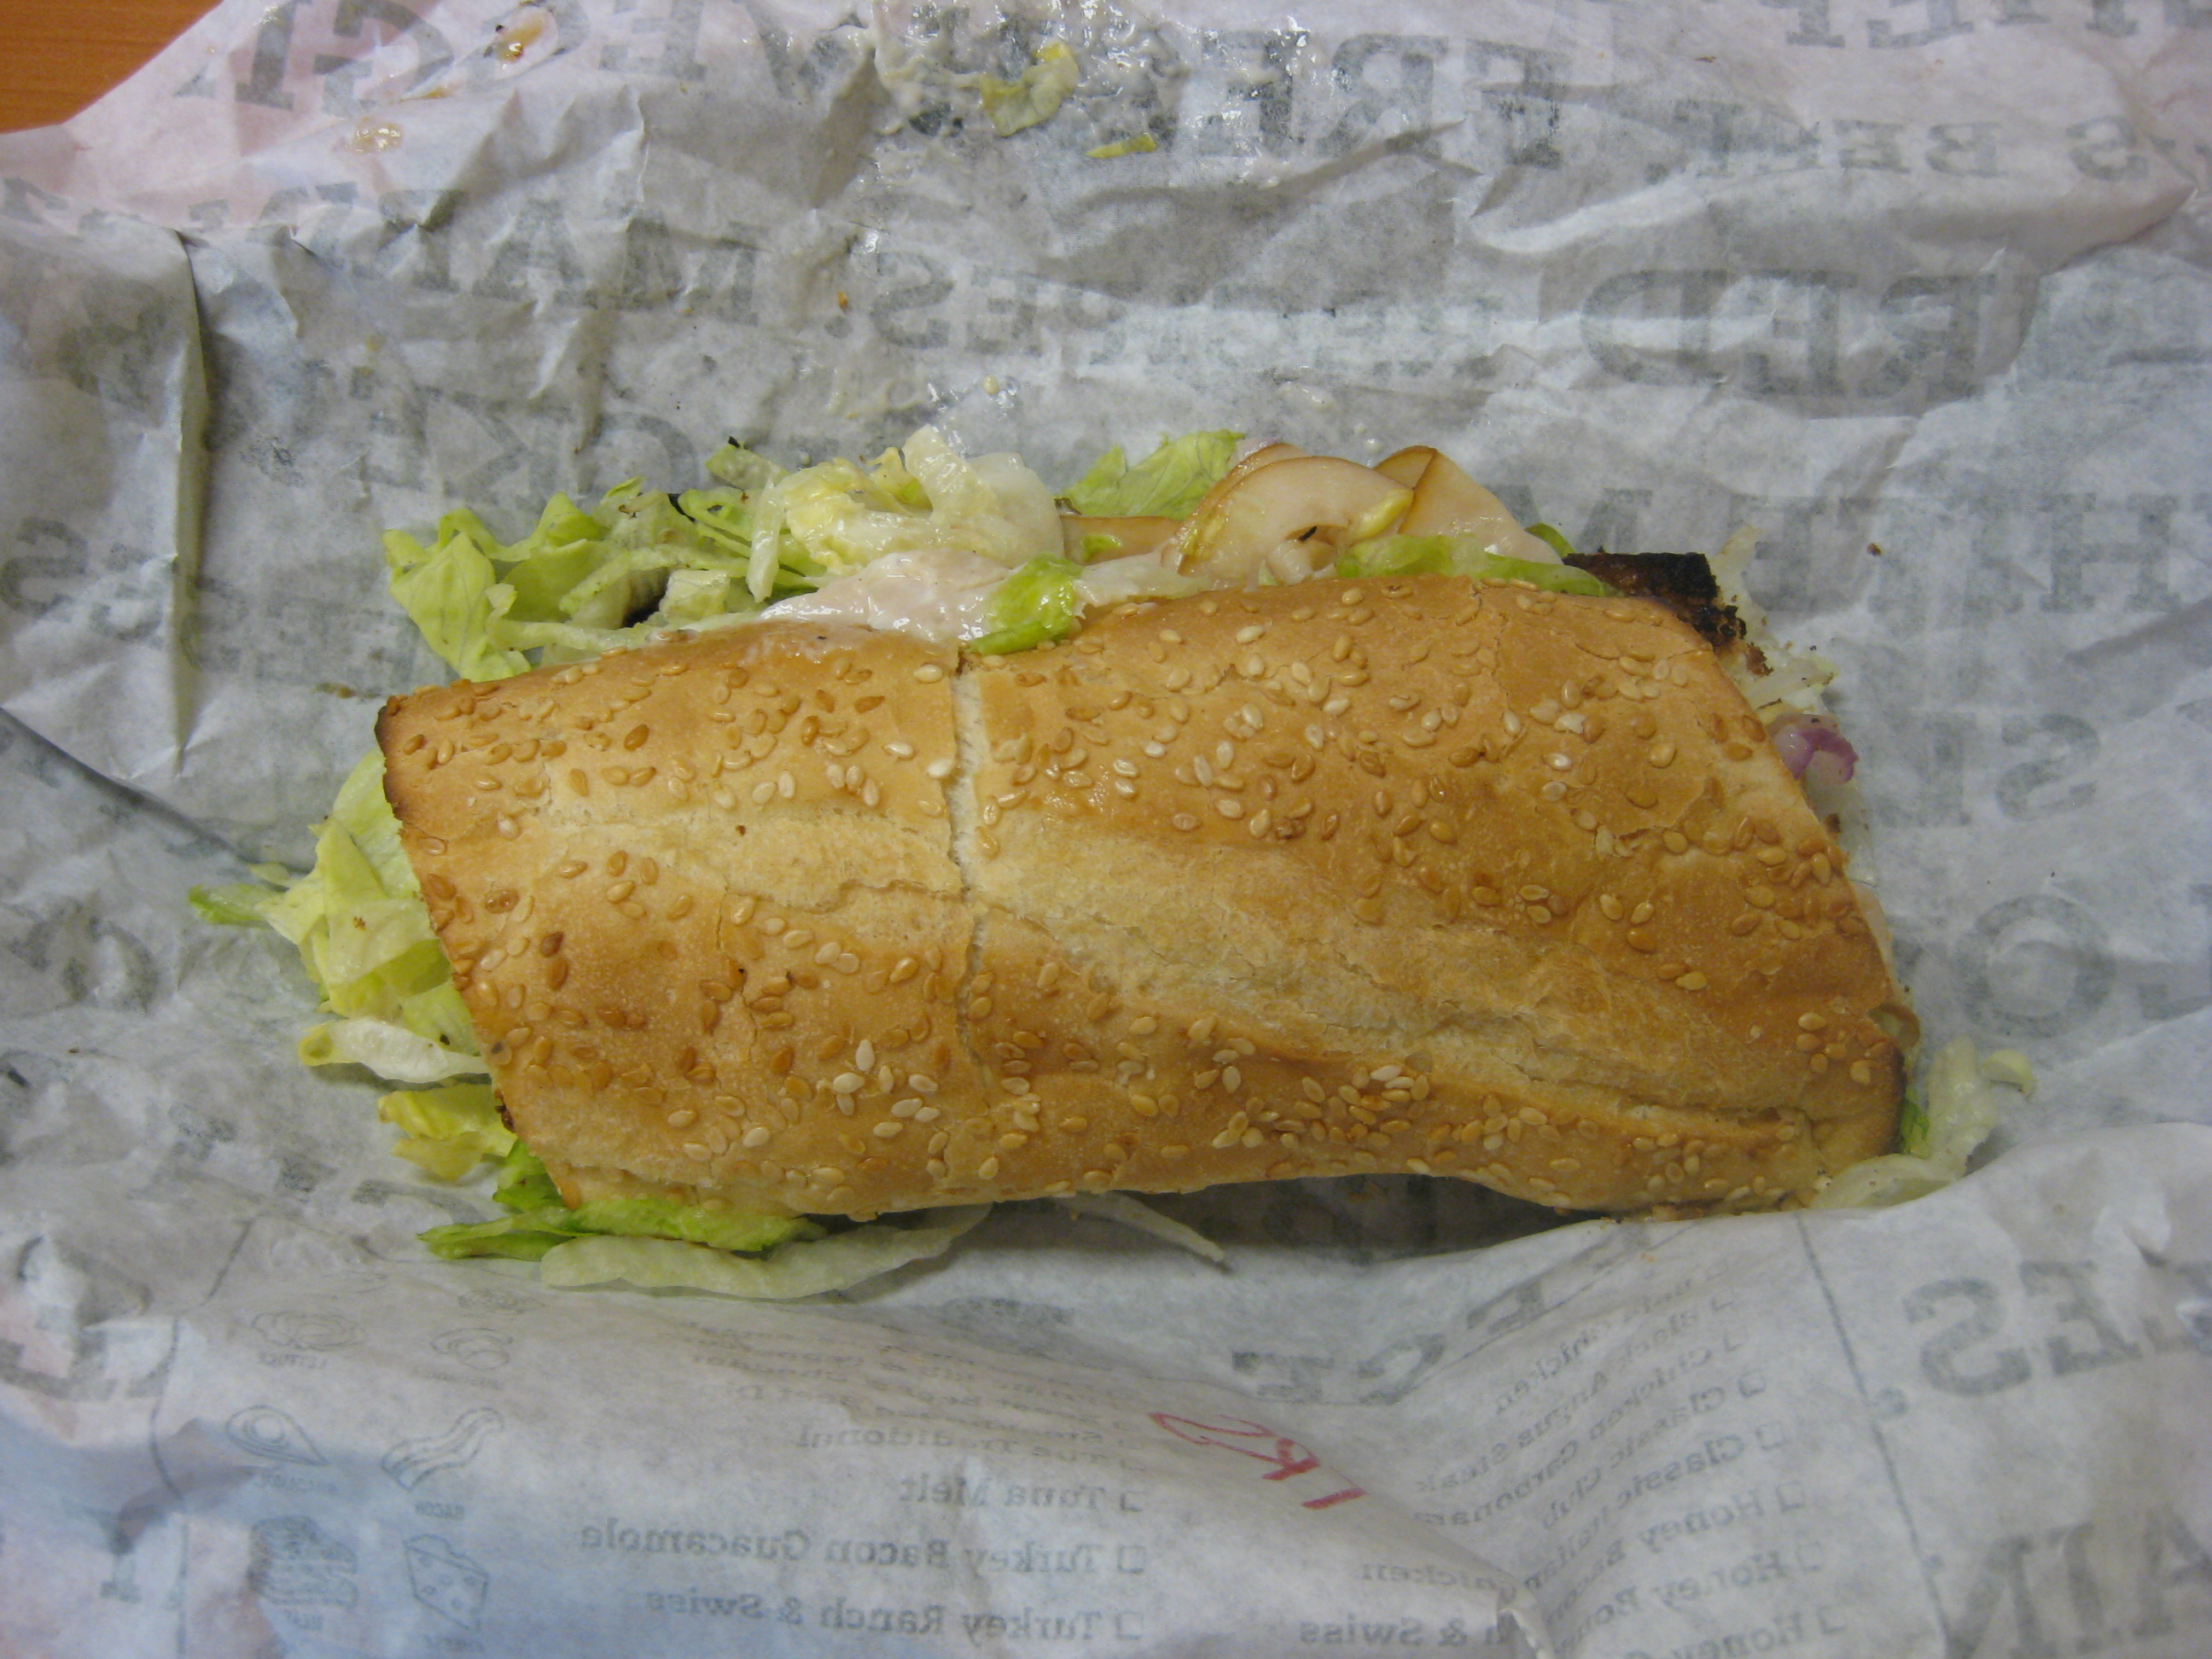sub: (311, 466, 2006, 1268)
